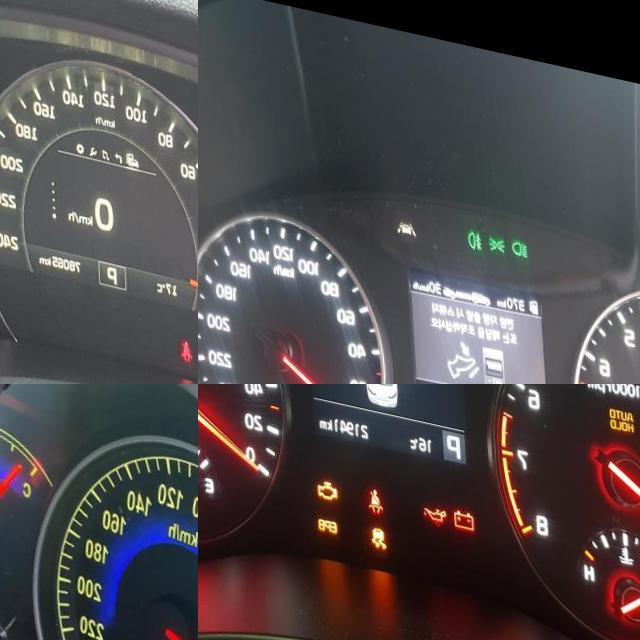FrontFogLight: (466, 215, 480, 238)
LaneCenteringOff: (394, 209, 415, 226)
Low beam: (510, 224, 526, 243)
SideLamp: (486, 221, 504, 239)
